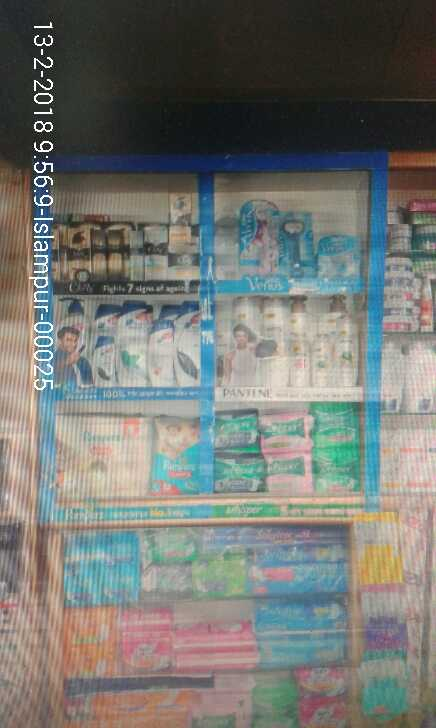venus: (237, 200, 278, 278), (279, 212, 316, 279), (316, 236, 361, 279)
